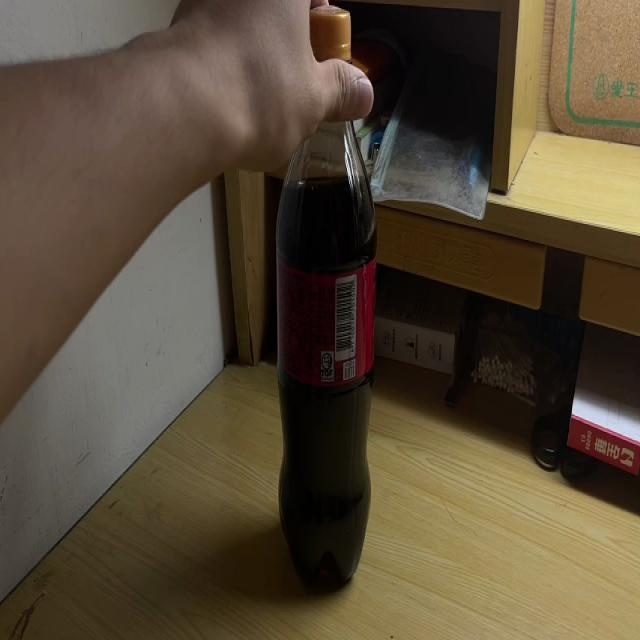Coca-Cola: (276, 4, 374, 588)
